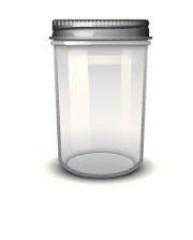glass: (49, 18, 153, 182)
